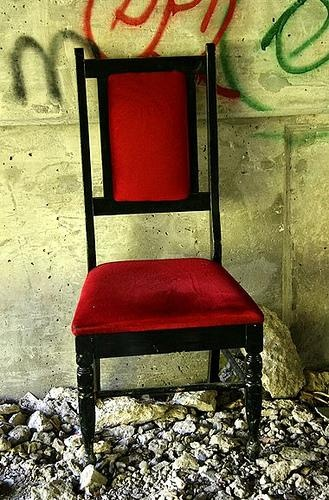obstacle: (72, 44, 262, 455)
